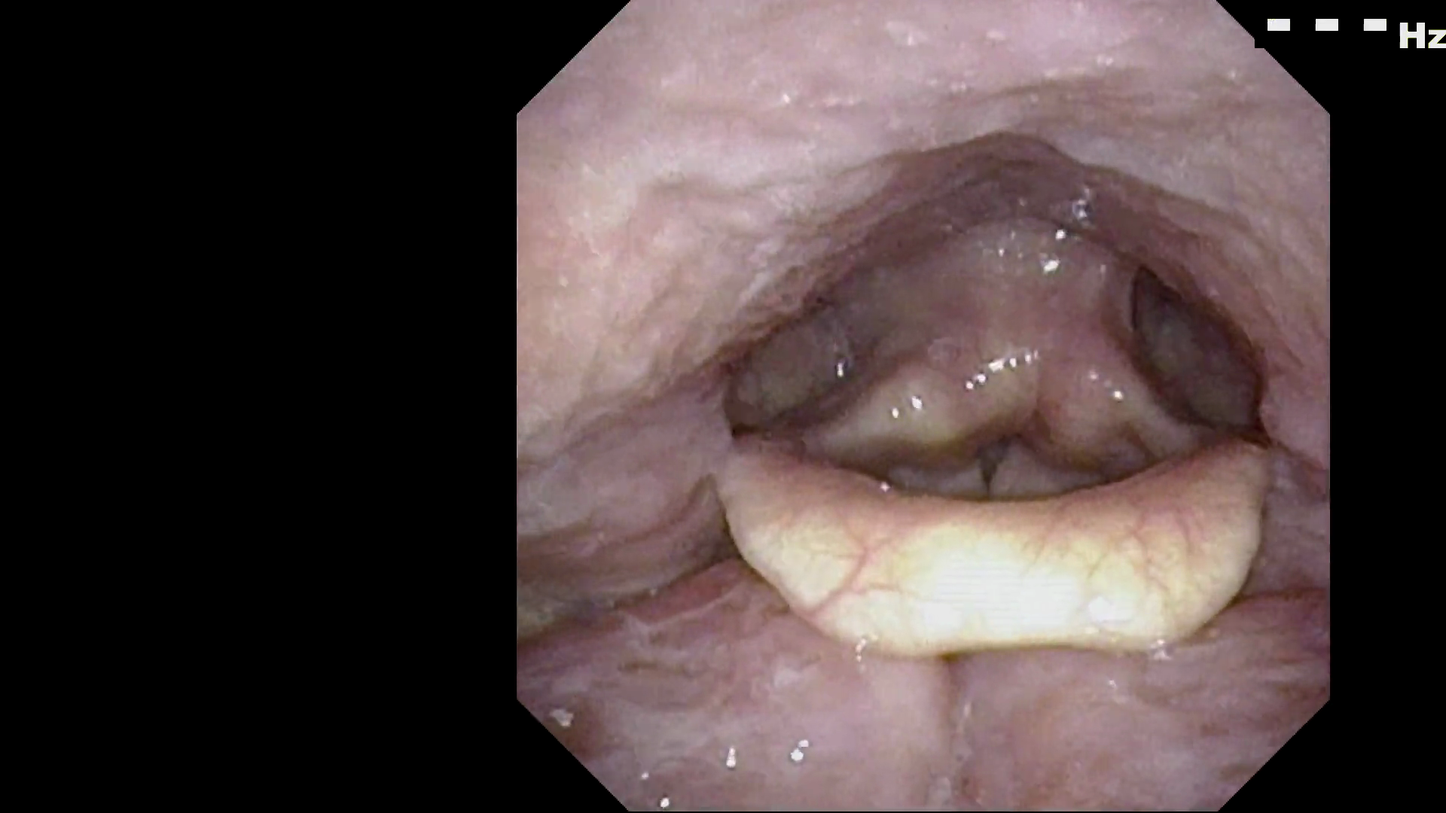epiglottis: (701, 414, 1294, 667)
trachea: (919, 369, 1086, 558)
